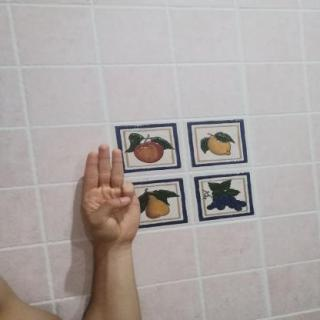THA: (68, 137, 150, 255)
